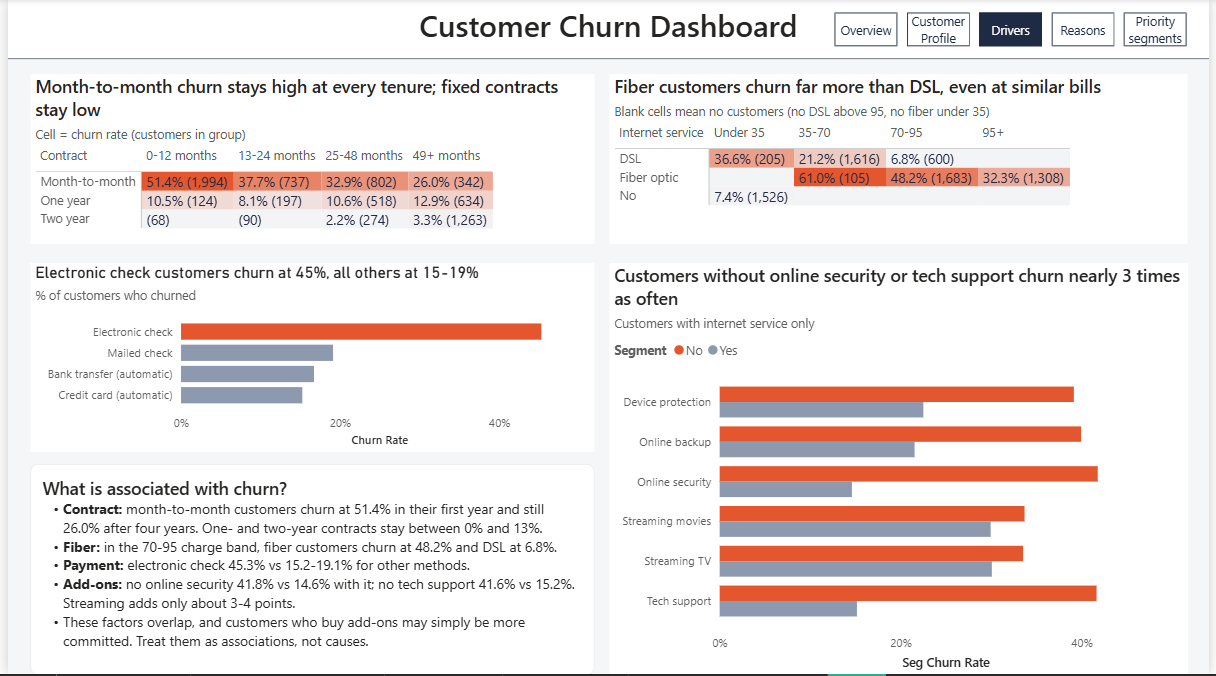

Layout of this report page (visuals, bound fields, positions):
{"tool":"powerbi","page":{"name":"Drivers","canvas":[1280,720],"ordinal":2},"visuals":[{"type":"shape","box":[0,0,1280,64],"z":0},{"type":"textbox","box":[0,0,1279,63],"z":1000},{"type":"pageNavigator","box":[880,14,376,36],"z":2000},{"type":"pivotTable","title":"Month-to-month churn falls with tenure but stays well above fixed contracts","fields":{"Rows":["Customers.contract"],"Columns":["Customers.tenure_band"],"Values":["Customers.Churn Cell"]},"box":[24,79.9,600.7,180.5],"z":3000},{"type":"pivotTable","title":"Fiber customers churn far more than DSL, even at similar bills","fields":{"Rows":["Customers.internet_service"],"Columns":["Customers.monthly_charges_band"],"Values":["Customers.Churn Cell"]},"box":[640.7,79.9,615.1,180.5],"z":4000},{"type":"clusteredBarChart","title":"Electronic check customers churn at 45%, all others at 15-19%","fields":{"Category":["Customers.payment_method"],"Y":["Customers.Churn Rate"]},"box":[24,281.2,600.7,201.3],"z":5000},{"type":"clusteredBarChart","title":"Customers without online security or tech support churn nearly 3 times as often","fields":{"Category":["Segments.dimension"],"Series":["Segments.segment"],"Y":["Segments.Seg Churn Rate"]},"box":[640.6,281.6,616.1,438.4],"z":6000},{"type":"textbox","box":[24.6,495.1,600.9,224.9],"z":7000}]}

Visuals, with their boxes in screenshot pixels (x1, y1, x2, y2), scaled from the page's 1280x720 canvas onto the 1216x676 screenshot:
shape: box(0, 0, 1215, 60)
textbox: box(0, 0, 1215, 59)
pageNavigator: box(836, 13, 1193, 47)
"Month-to-month churn falls with tenure but stays well above fixed contracts" pivotTable: box(23, 75, 593, 244)
"Fiber customers churn far more than DSL, even at similar bills" pivotTable: box(609, 75, 1193, 244)
"Electronic check customers churn at 45%, all others at 15-19%" clusteredBarChart: box(23, 264, 593, 453)
"Customers without online security or tech support churn nearly 3 times as often" clusteredBarChart: box(609, 264, 1194, 675)
textbox: box(23, 465, 594, 675)
